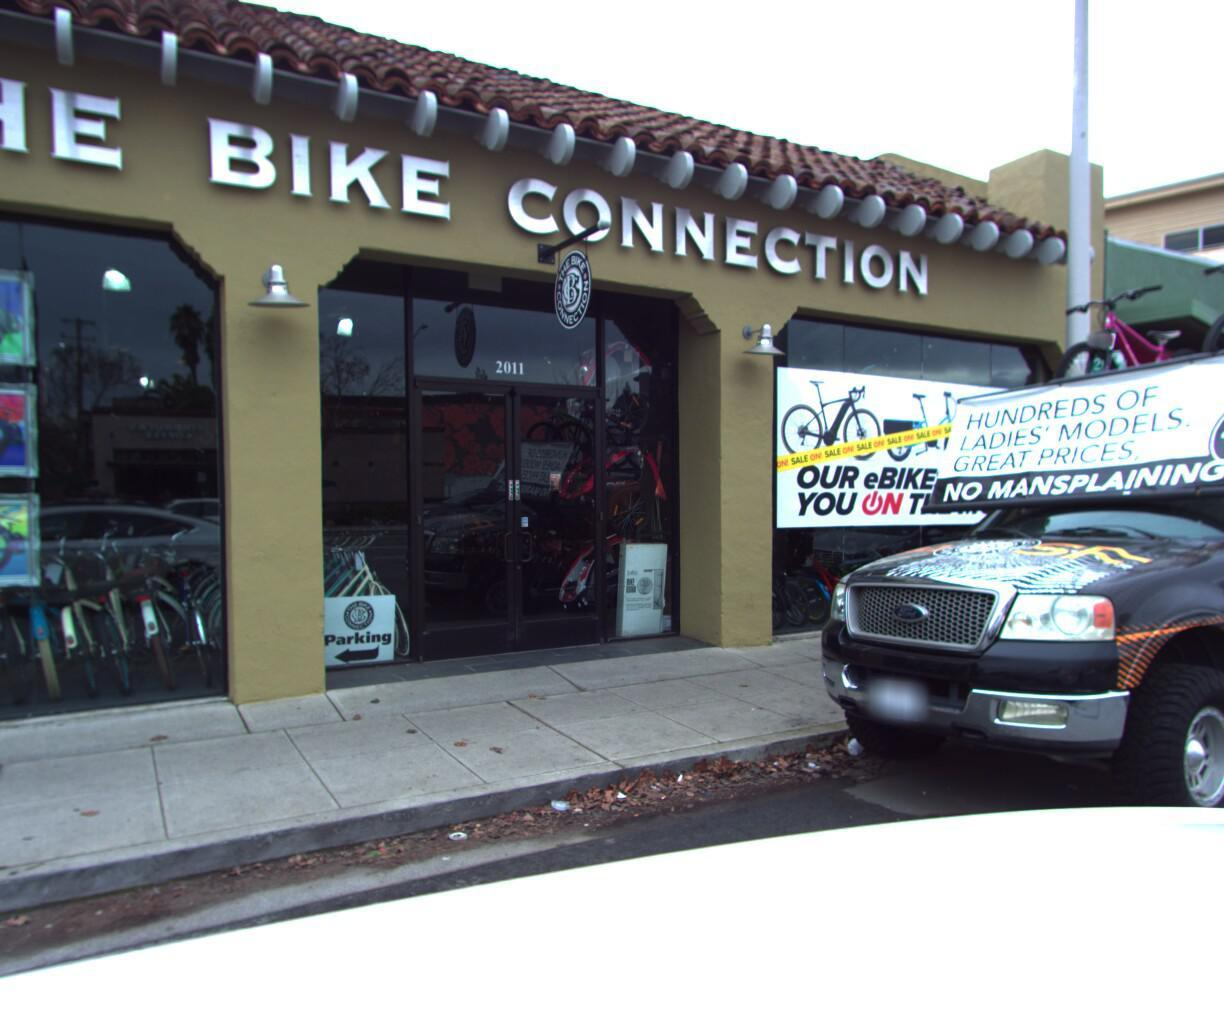car: (717, 65, 1224, 938)
